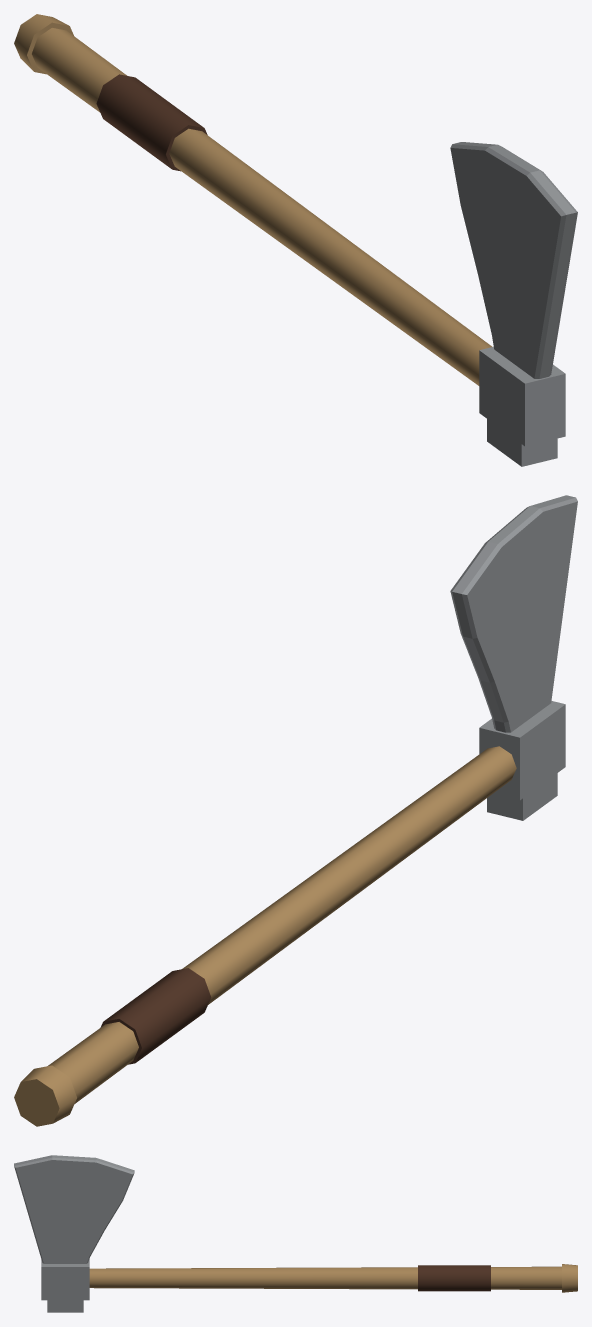
File: f_okse.glb
3 views of the same model, one above another, from view 1: azimuth 30°, elevation 25°; view 2: azimuth 150°, elevation 25°; view 3: azimuth 270°, elevation 25° (orthographic). The views are drawn at different scales.
Parts seen in each view (by area): view 1: skaft, oeksehoved_blad, oeksehoved_oeje, greb, oeksehoved_nakke, skaft_knop; view 2: skaft, oeksehoved_blad, oeksehoved_oeje, greb, skaft_knop, oeksehoved_nakke; view 3: oeksehoved_blad, skaft, greb, oeksehoved_oeje, oeksehoved_nakke, skaft_knop.
Boxes of the visible parts, x1=… form: skaft: x1=32, y1=28, x2=492, y2=385; oeksehoved_blad: x1=450, y1=142, x2=577, y2=378; oeksehoved_oeje: x1=479, y1=347, x2=565, y2=446; greb: x1=96, y1=74, x2=207, y2=171; oeksehoved_nakke: x1=487, y1=419, x2=557, y2=466; skaft_knop: x1=14, y1=14, x2=73, y2=74; skaft: x1=47, y1=746, x2=516, y2=1103; oeksehoved_blad: x1=450, y1=495, x2=577, y2=732; oeksehoved_oeje: x1=479, y1=701, x2=565, y2=800; greb: x1=100, y1=968, x2=211, y2=1064; skaft_knop: x1=14, y1=1065, x2=76, y2=1126; oeksehoved_nakke: x1=487, y1=773, x2=557, y2=820; oeksehoved_blad: x1=14, y1=1155, x2=134, y2=1263; skaft: x1=89, y1=1266, x2=561, y2=1289; greb: x1=418, y1=1265, x2=490, y2=1291; oeksehoved_oeje: x1=41, y1=1259, x2=89, y2=1300; oeksehoved_nakke: x1=47, y1=1300, x2=83, y2=1312; skaft_knop: x1=562, y1=1264, x2=577, y2=1292.
Size of the model in its own units: 0.042 by 0.229 by 0.7714.
